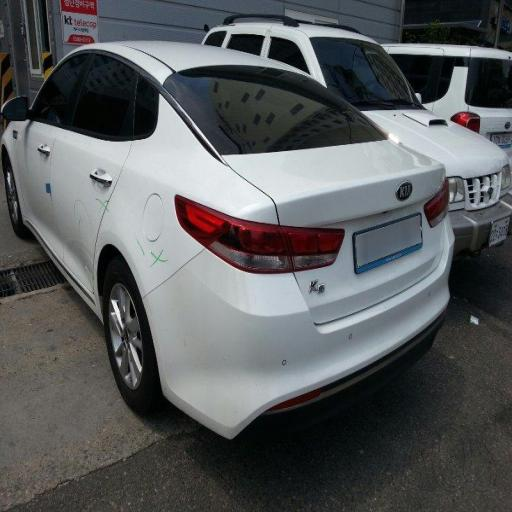scratch: (66, 160, 205, 318)
